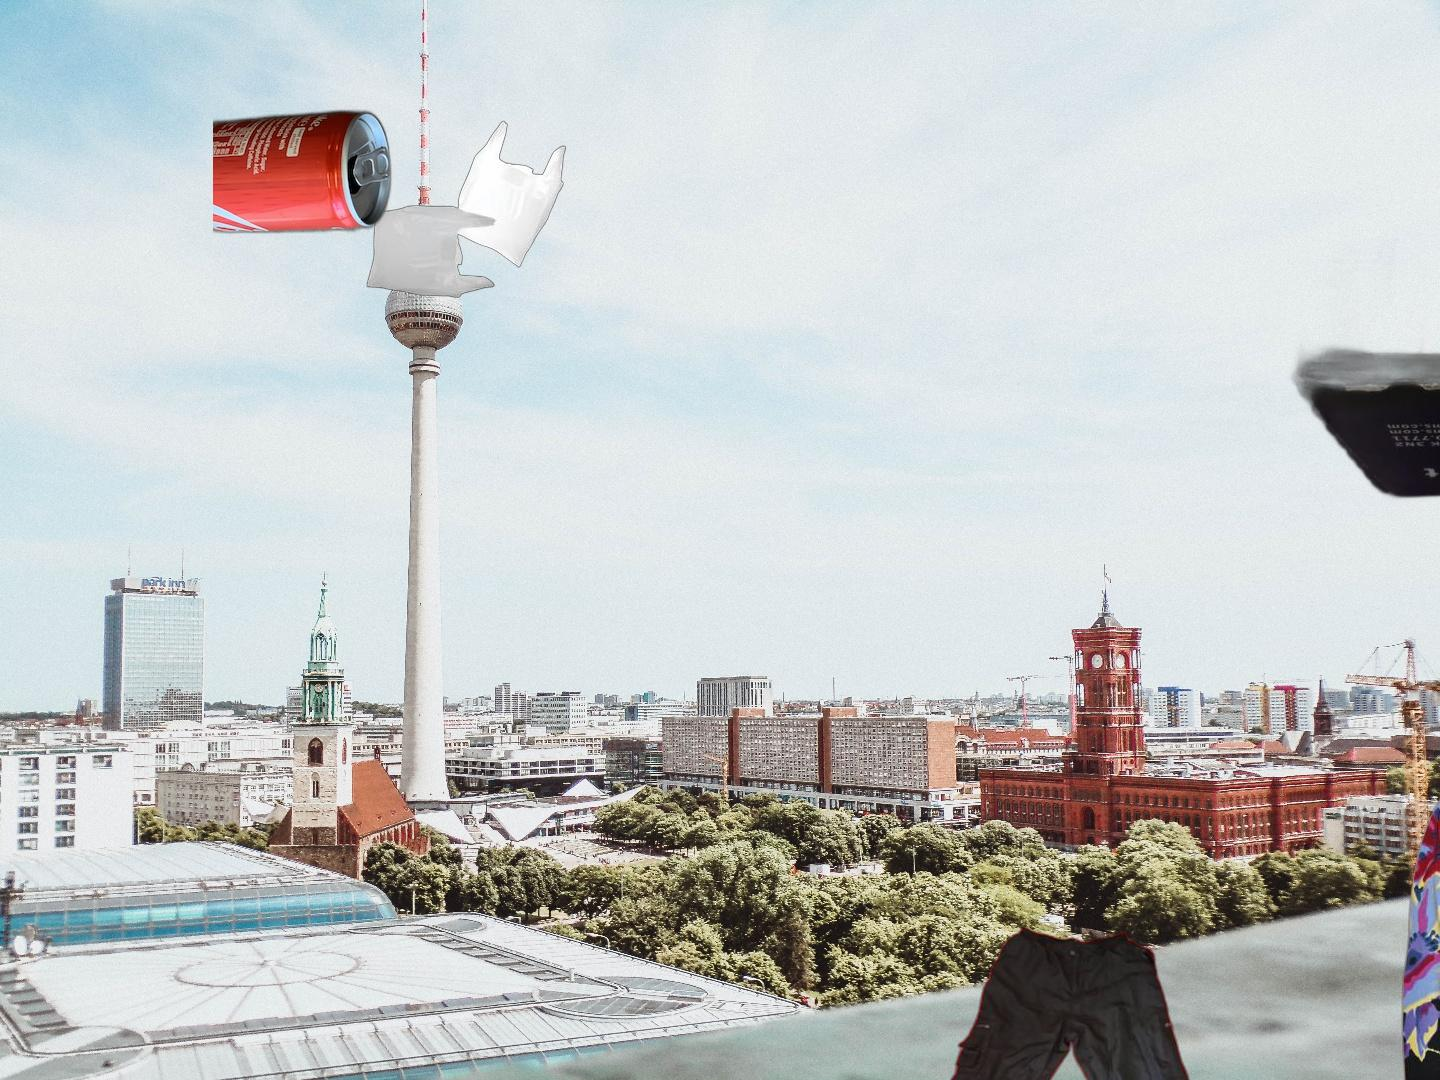clothes: (865, 923, 1264, 1080), (1398, 722, 1440, 1080)
metal-cans: (213, 104, 396, 239)
plastic-bag: (364, 118, 568, 301)
trashbox-cardboard: (1286, 209, 1440, 511)
